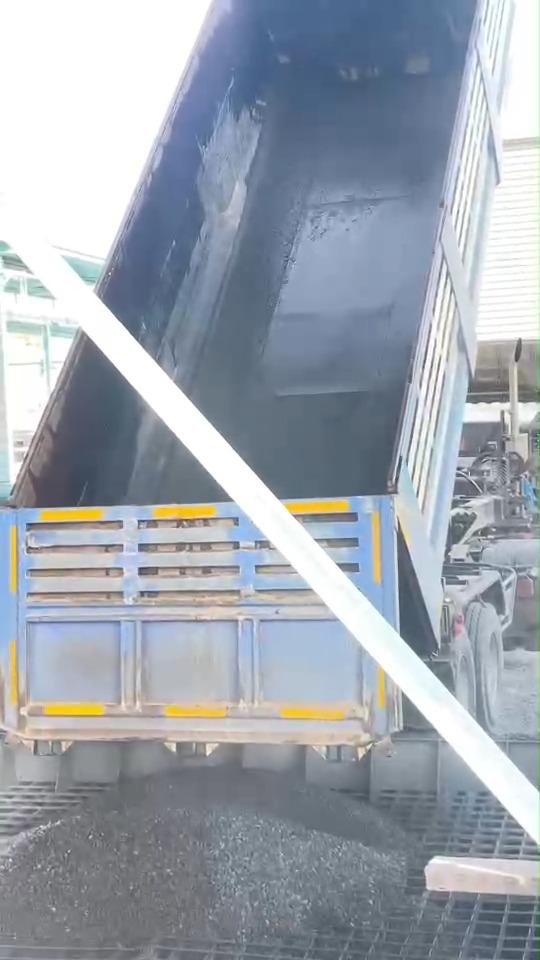gravel: (0, 770, 407, 944)
